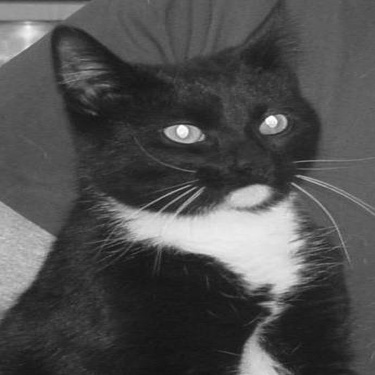cat: (28, 5, 361, 363)
